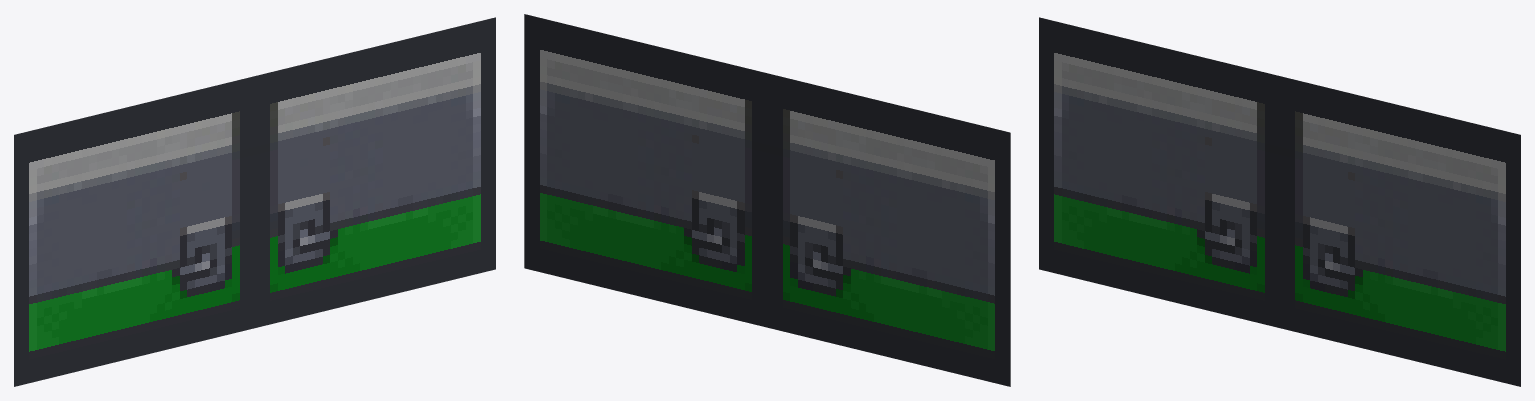
File: DoubleDoor_H_Green.glb
The picture shows the model from 3 angles, left to right: view 1: azimuth 30°, elevation 25°; view 2: azimuth 150°, elevation 25°; view 3: azimuth 330°, elevation 25°; orthographic projection.
Parts seen in each view (by area): view 1: pPlane7, pPlane6; view 2: pPlane6, pPlane7; view 3: pPlane6, pPlane7.
Boxes of the visible parts, x1,y1,x2,y2 form: pPlane7: [14, 76, 254, 386]; pPlane6: [255, 17, 495, 327]; pPlane6: [524, 14, 767, 327]; pPlane7: [767, 73, 1010, 386]; pPlane6: [1280, 76, 1520, 386]; pPlane7: [1039, 17, 1279, 327].
Bounding box in the file's own units: 2 × 1.03 × 0.1.
Materials: 2 (2 with a texture image).
